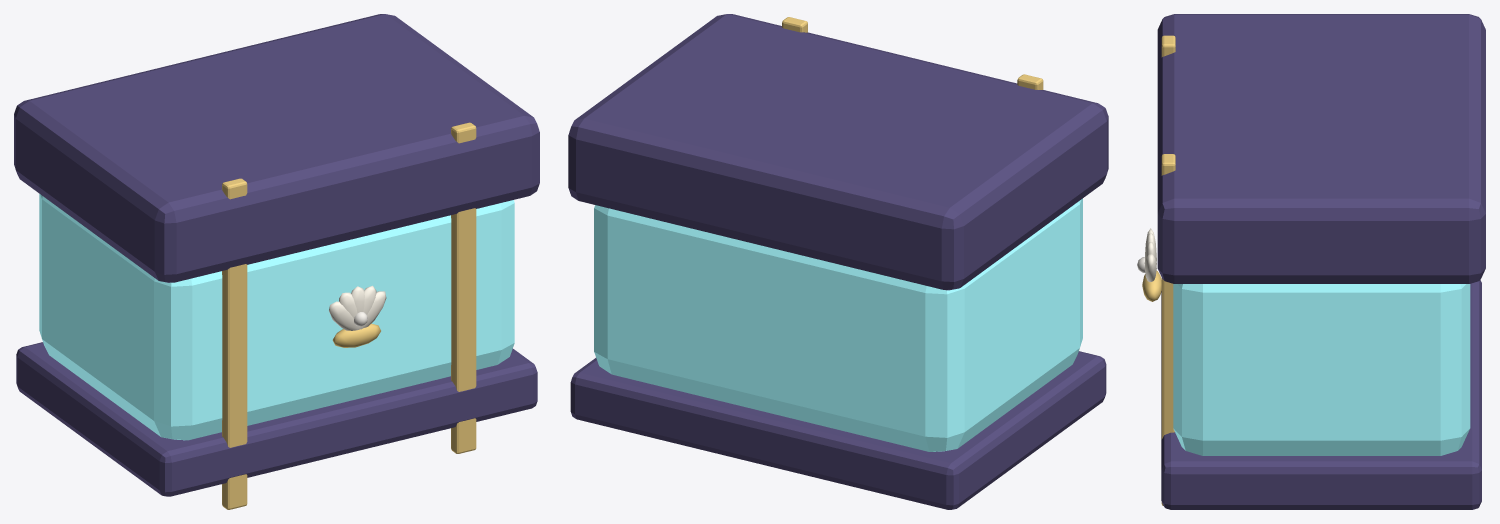
Rendered from pearl_toy_chest.glb.
3 views of the same model, side by side, from view 1: azimuth 30°, elevation 25°; view 2: azimuth 150°, elevation 25°; view 3: azimuth 270°, elevation 25° (orthographic). The views are drawn at different scales.
Visible parts, largest first — view 1: pearl_toy_chest.001; view 2: pearl_toy_chest.001; view 3: pearl_toy_chest.001.
Part boxes in pixels (x1,y1,x2,y2): pearl_toy_chest.001: (14,14,539,509); pearl_toy_chest.001: (568,14,1108,509); pearl_toy_chest.001: (1137,14,1485,509).
Bounding box in the file's own units: 6 × 4.85 × 4.46.
